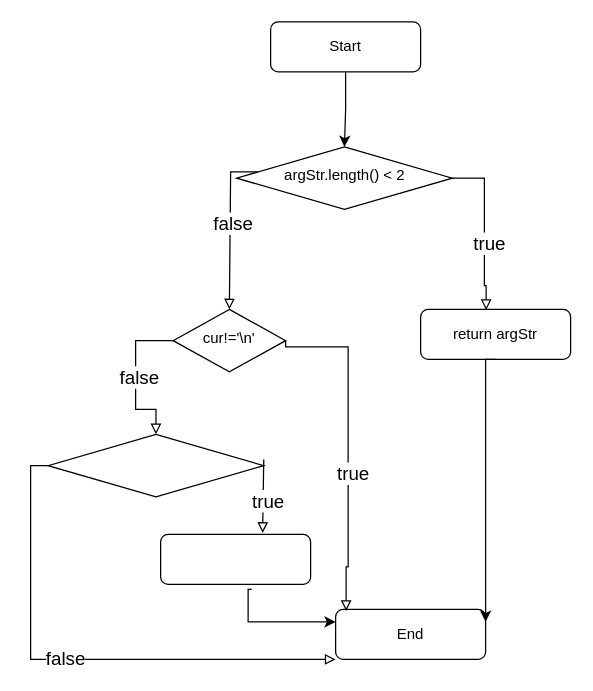
The diagram is 593 pixels wide and 691 high, and some of its shapes have lost their labels. The shapes that lost their labels are listed below. From the top down, each one's centre as x and y in pixels, then its label:
At (x=155, y=465): "last != '\n'".
At (x=235, y=558): "argBuf.append(cur)".
